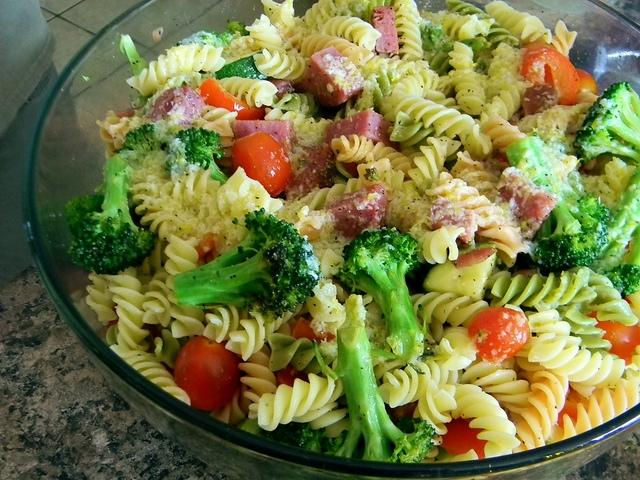broccoli: (314, 294, 436, 464), (174, 208, 321, 322), (505, 136, 610, 277), (340, 227, 426, 362), (66, 156, 154, 276), (585, 168, 640, 276), (572, 81, 640, 165), (162, 127, 230, 185), (610, 224, 640, 296), (122, 123, 164, 151), (210, 20, 250, 45)
tomato: (174, 335, 249, 410), (232, 131, 292, 198), (520, 44, 580, 106), (468, 307, 530, 362), (586, 310, 640, 366), (198, 77, 266, 120), (439, 416, 488, 460), (556, 384, 590, 429), (292, 318, 336, 344), (276, 363, 310, 388), (574, 68, 598, 95), (194, 231, 216, 258)
